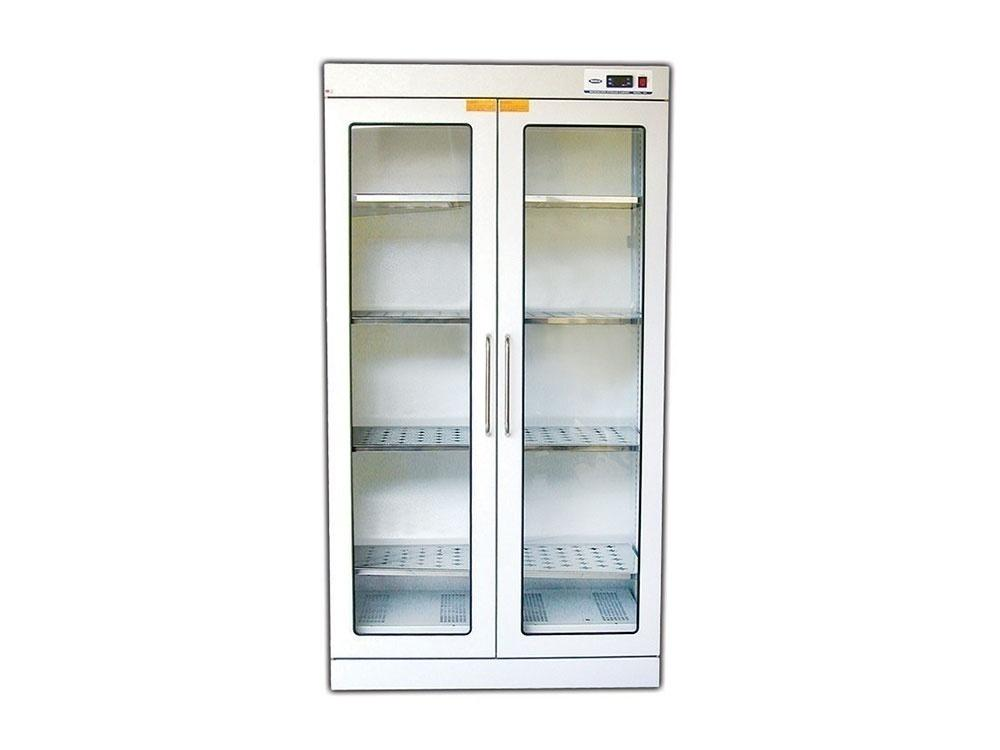cabinet_door: (338, 100, 498, 684), (506, 106, 651, 673)
handle: (475, 334, 498, 435), (498, 335, 514, 437)
